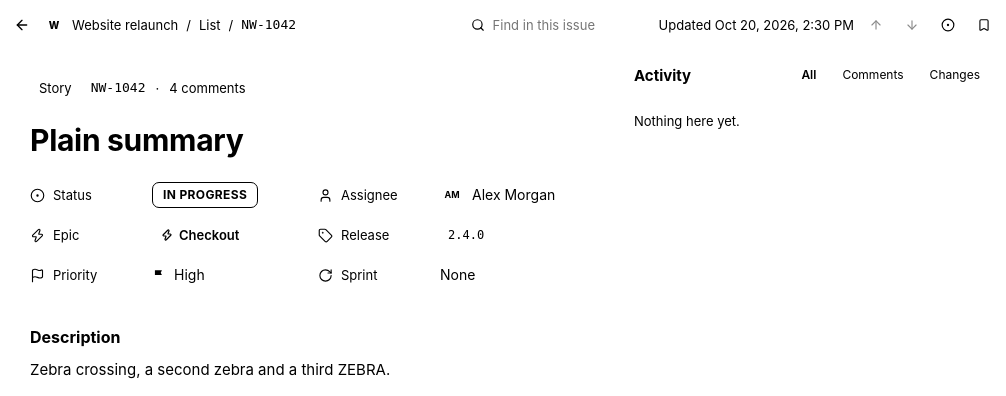
Test: Find in this issue › Enter › goes back with Shift and wraps to the last match
Expected: the heading "Plain summary" is shown, [30,122,243,158]
Type "zebra" into the field labelled "Find in this issue". click: (546, 25)
box: [491,15,601,35]
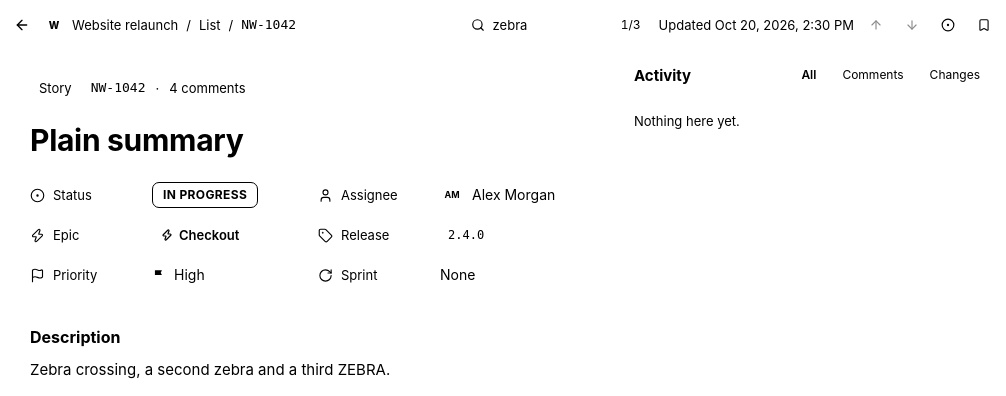
Result: the text "1/3" is shown at [621,17,641,32]
Press Enter
Type keys "{Shift>}{Enter}{/Shift}"
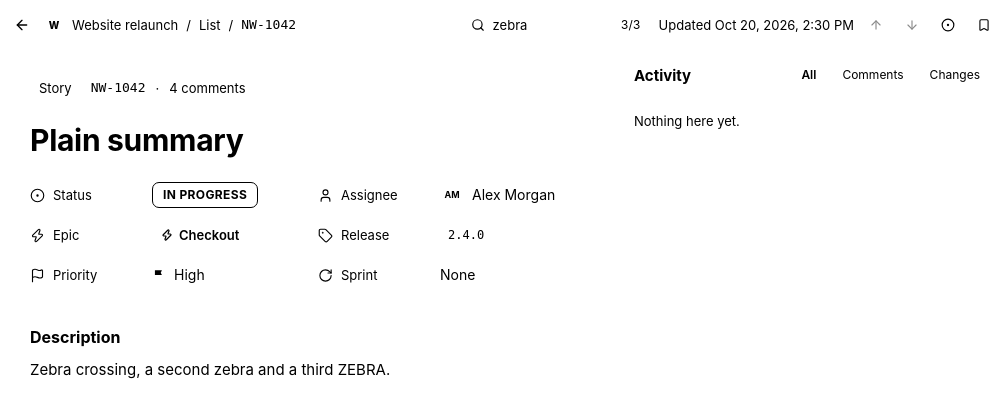
Result: the text "3/3" is shown at [621,17,641,32]
Type keys "{Shift>}{Enter}{/Shift}"
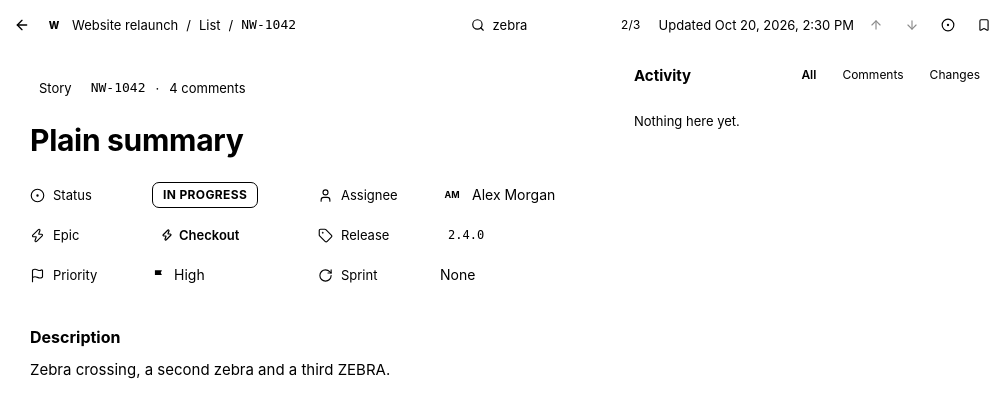
Result: the text "2/3" is shown at [621,17,641,32]
